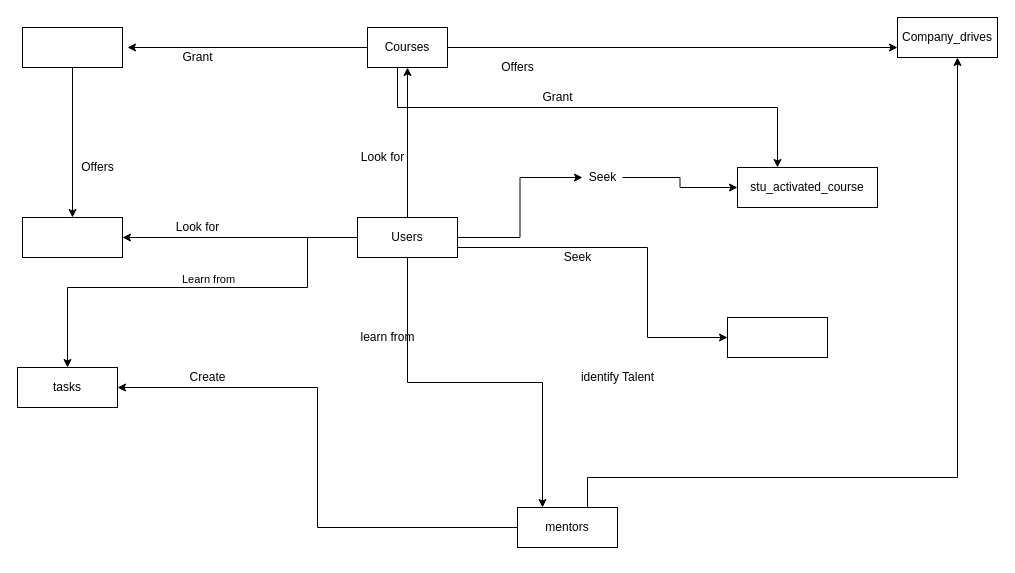
The diagram is 1015 pixels wide and 573 high, and some of its shapes have lost their labels. The shapes that lost their labels are listed below. From the top down, each one's centre as x and y in pixels, then its label:
point 72,47: Codekata
point 72,237: topics
point 777,337: Attendance
